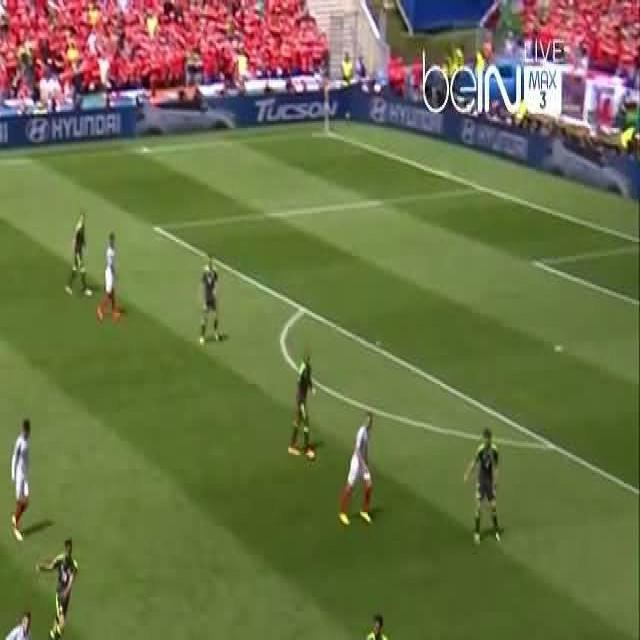player-white: (35, 533, 78, 640), (463, 426, 501, 544), (337, 412, 373, 526), (288, 352, 314, 460), (11, 418, 33, 542), (94, 231, 122, 319), (65, 213, 93, 300), (198, 255, 224, 343), (341, 613, 391, 640), (0, 609, 34, 640)
